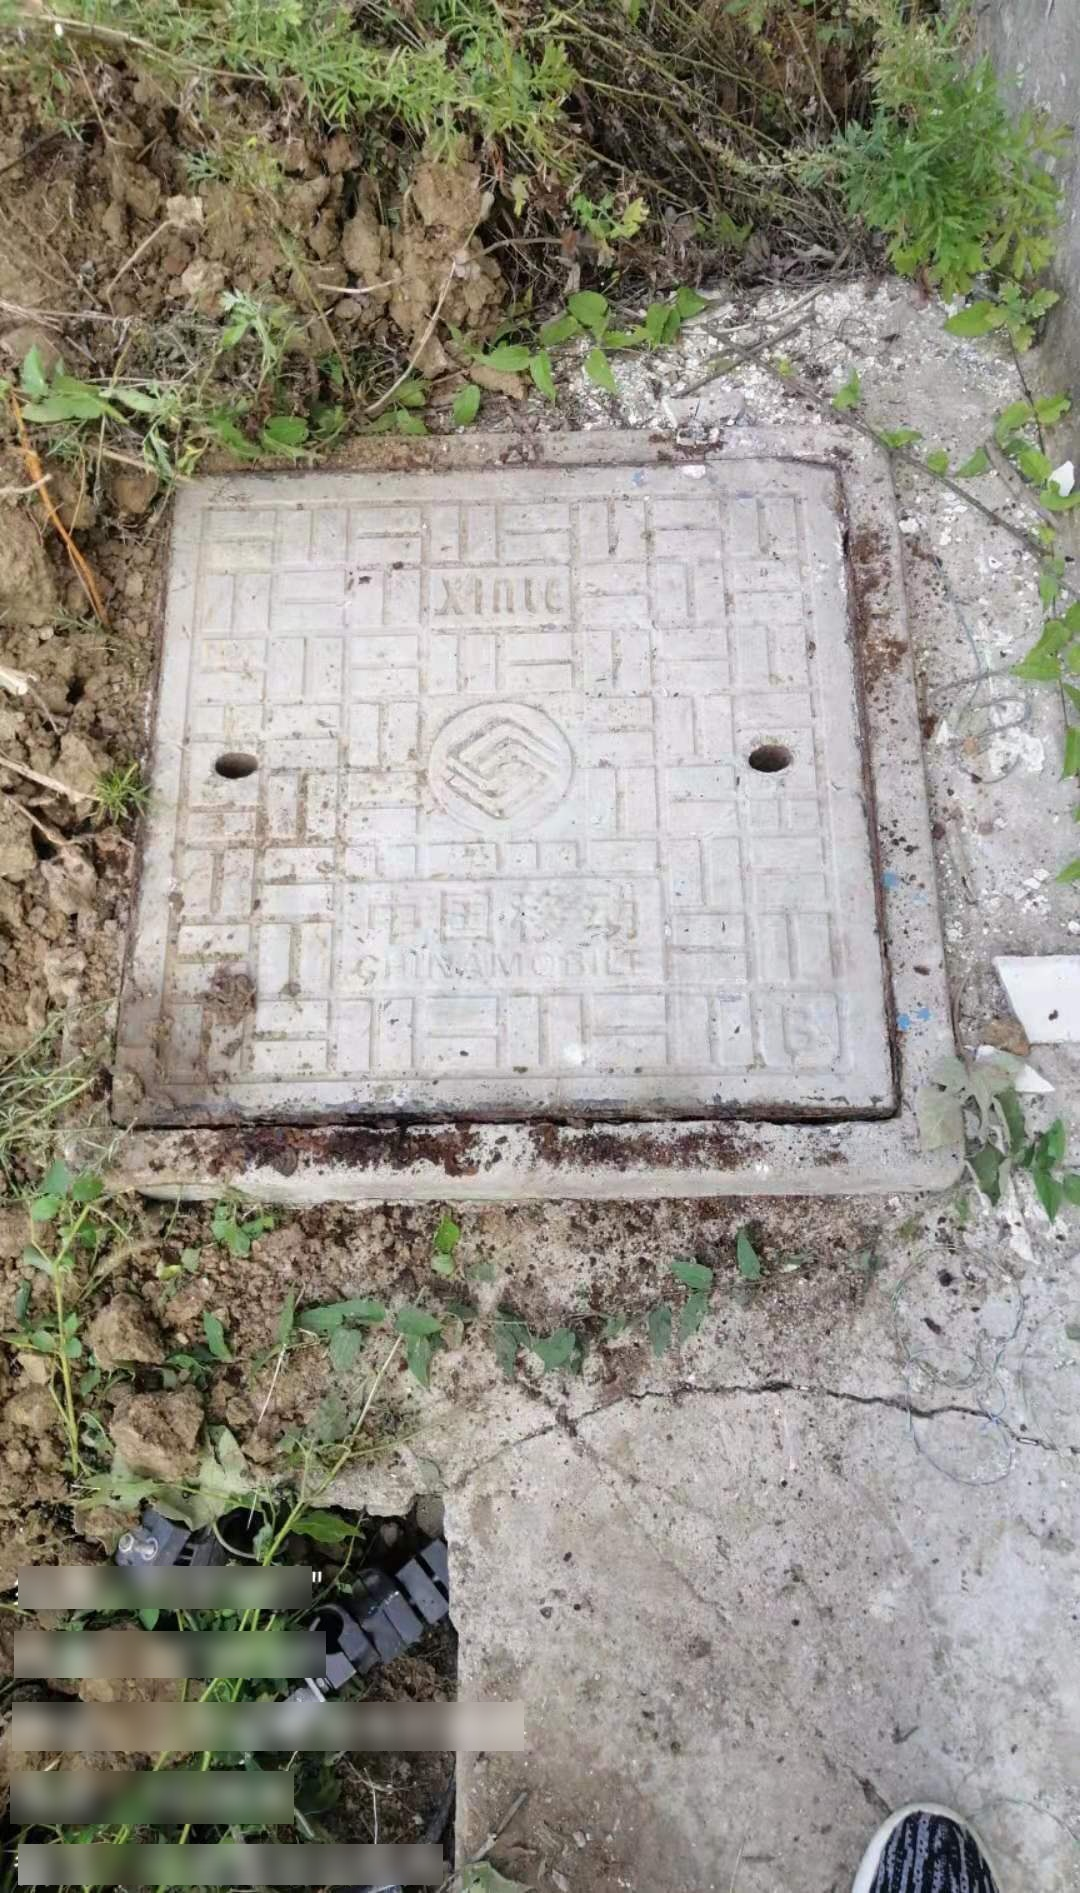good: (90, 432, 973, 1195)
